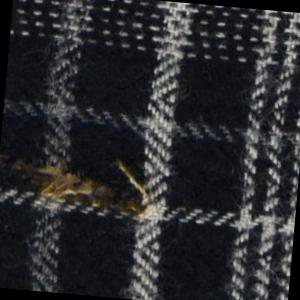Damage: (1, 153, 151, 217)
Oil Stain: (1, 140, 162, 223)
